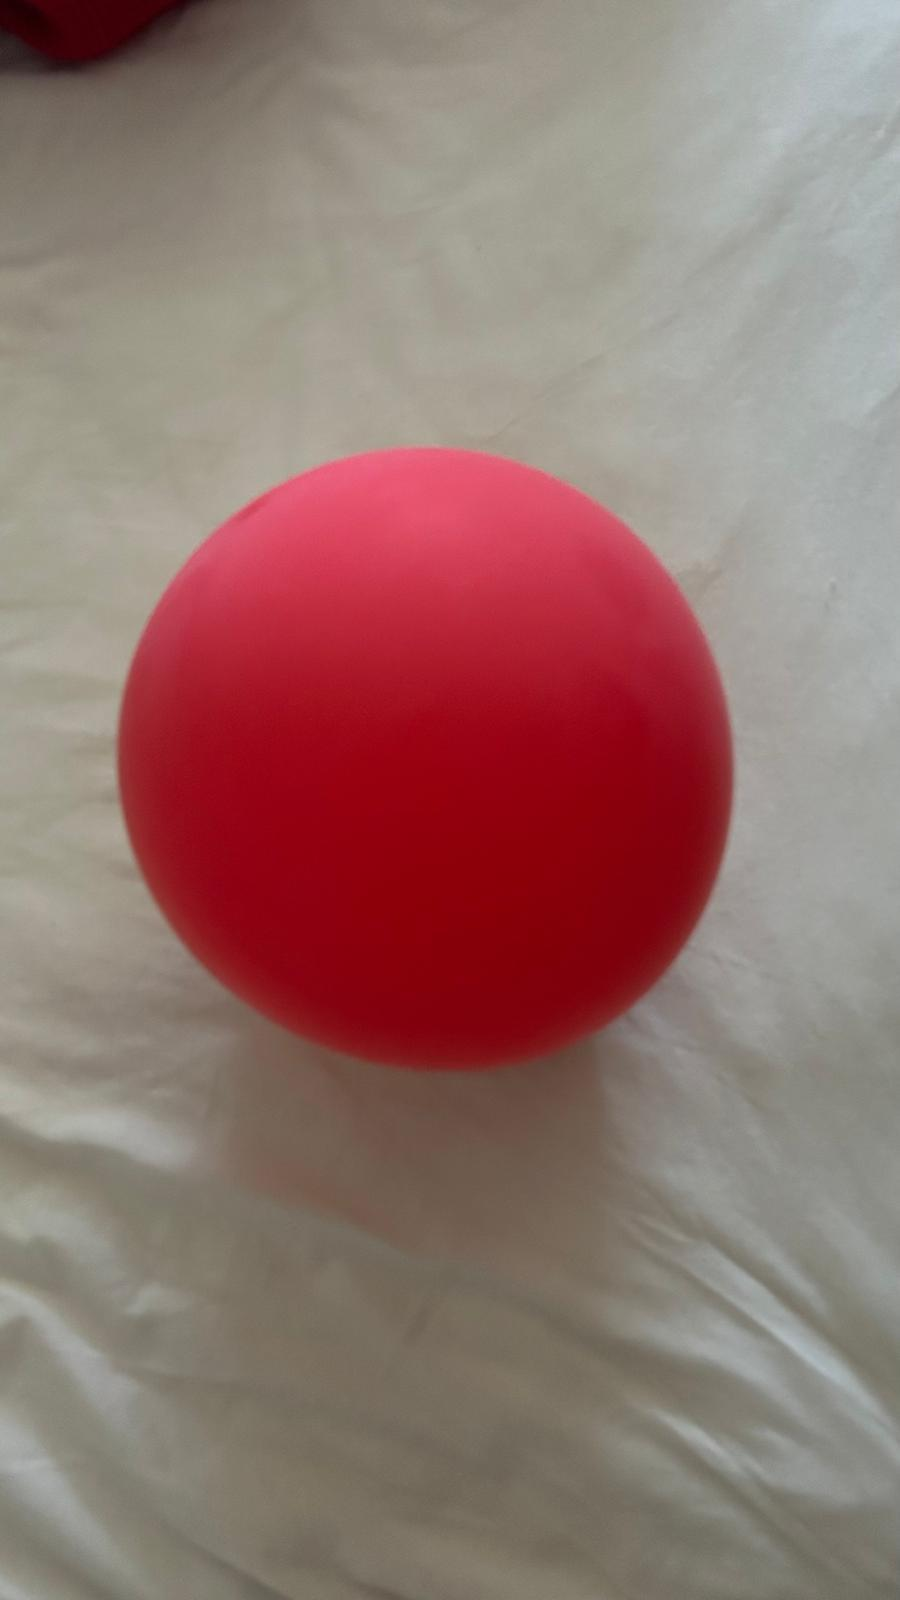red: (118, 437, 740, 1076)
